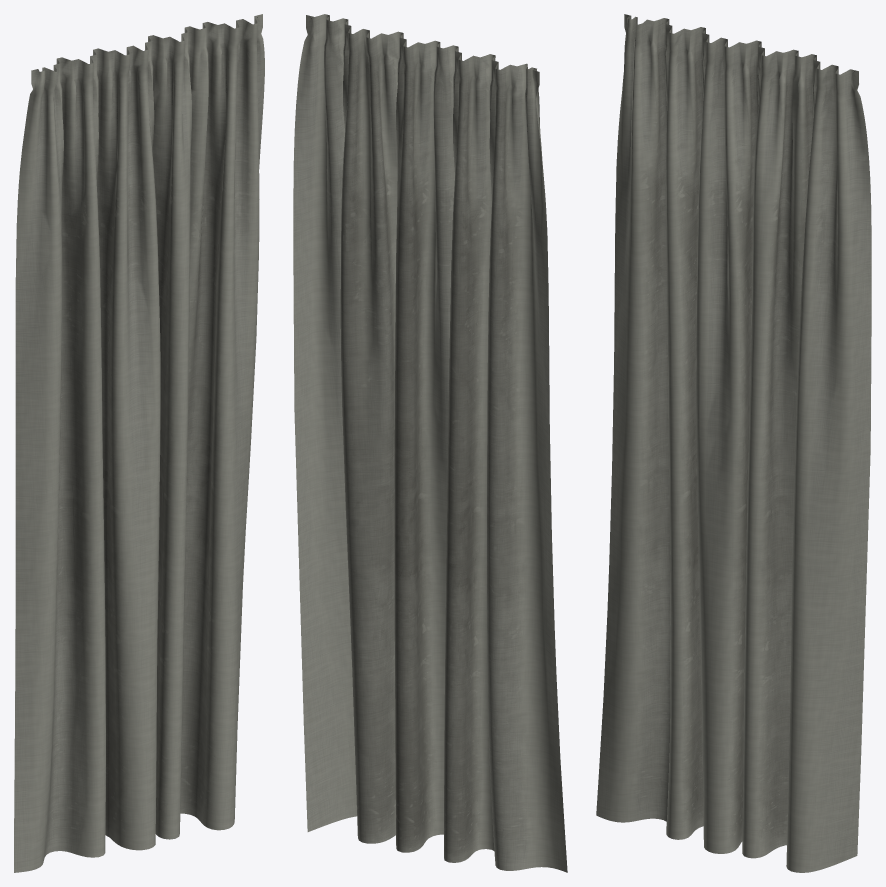
The model's file is Curtains.FBX.
3 views of the same model, side by side, from view 1: azimuth 30°, elevation 25°; view 2: azimuth 150°, elevation 25°; view 3: azimuth 330°, elevation 25° (orthographic).
Parts seen in each view (by area): view 1: Curtains; view 2: Curtains; view 3: Curtains.
Part boxes in pixels (x1,y1,x2,y2): Curtains: [14, 14, 264, 872]; Curtains: [293, 14, 567, 872]; Curtains: [596, 14, 871, 872].
Bounding box in the file's own units: 88.05 × 257 × 19.24.
